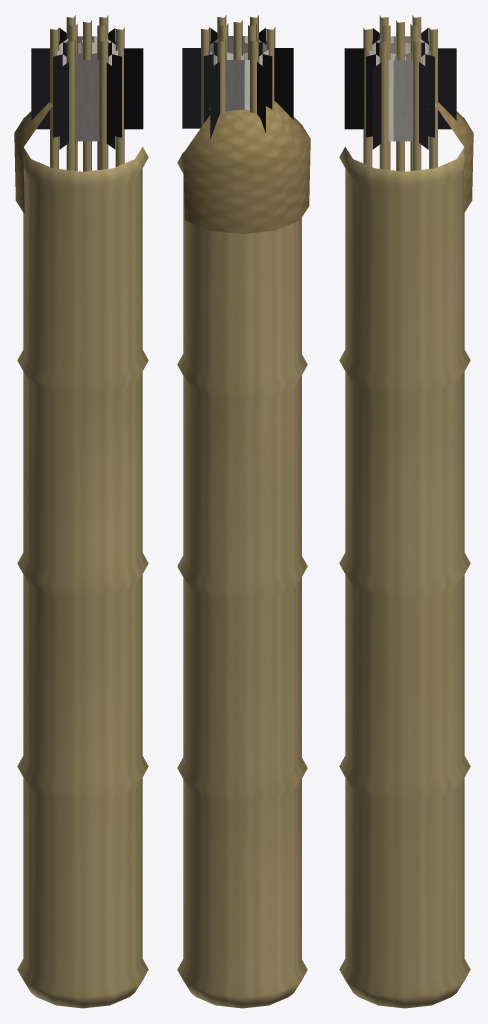
The model's file is quiver-cane-v0.glb.
3 views of the same model, side by side, from view 1: azimuth 30°, elevation 25°; view 2: azimuth 210°, elevation 25°; view 3: azimuth 330°, elevation 25° (orthographic).
Parts seen in each view (by area): view 1: quiver-cane-v0; view 2: quiver-cane-v0; view 3: quiver-cane-v0.
Part boxes in pixels (x1,y1,x2,y2): quiver-cane-v0: (14,15,148,1008); quiver-cane-v0: (177,15,310,1008); quiver-cane-v0: (339,15,473,1008).
Bounding box in the file's own units: 0.092 × 0.71 × 0.09.
1 material, 1 textured.
